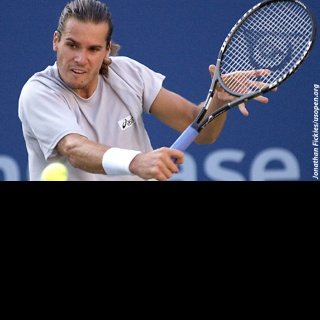without_mask: (55, 19, 109, 87)
